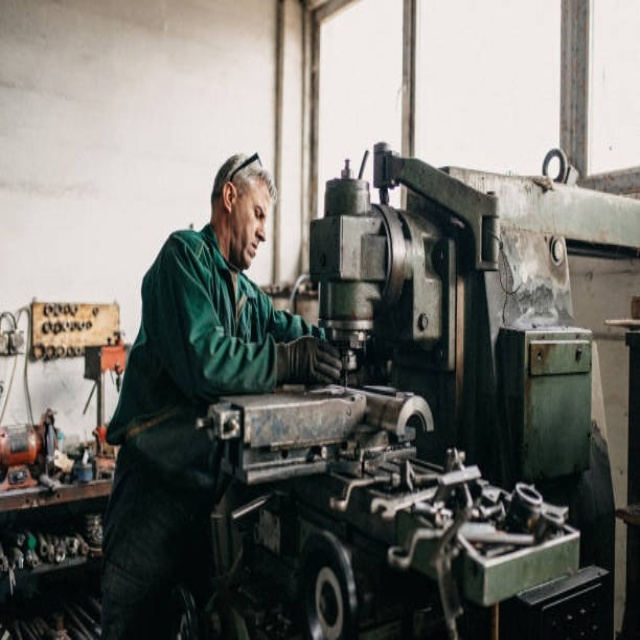Guantes: (275, 335, 344, 388)
Sin_gafas: (242, 193, 270, 224)
Sin_mascara: (243, 237, 265, 264)
